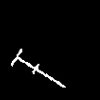double_crochet: (11, 49, 64, 86)
